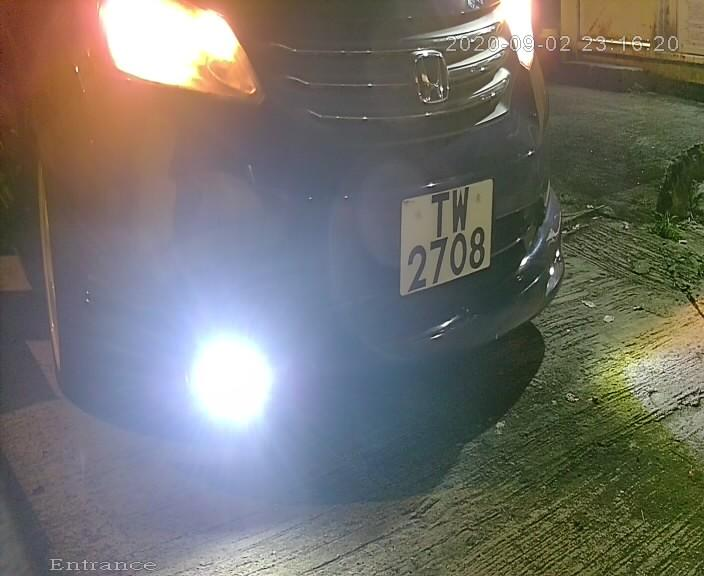License Plate: (393, 168, 500, 304)
